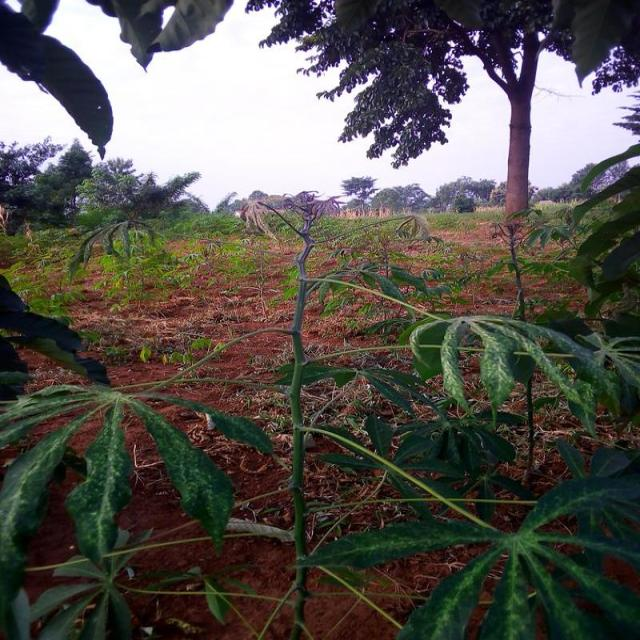cassava leaf: (66, 398, 134, 567)
